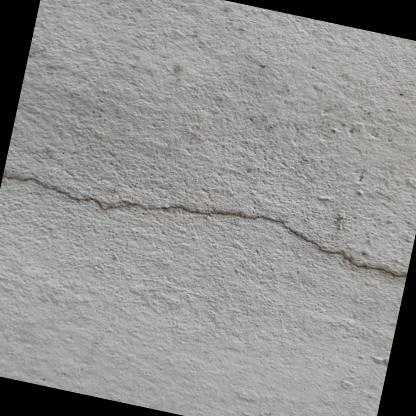crack: (2, 174, 406, 276)
